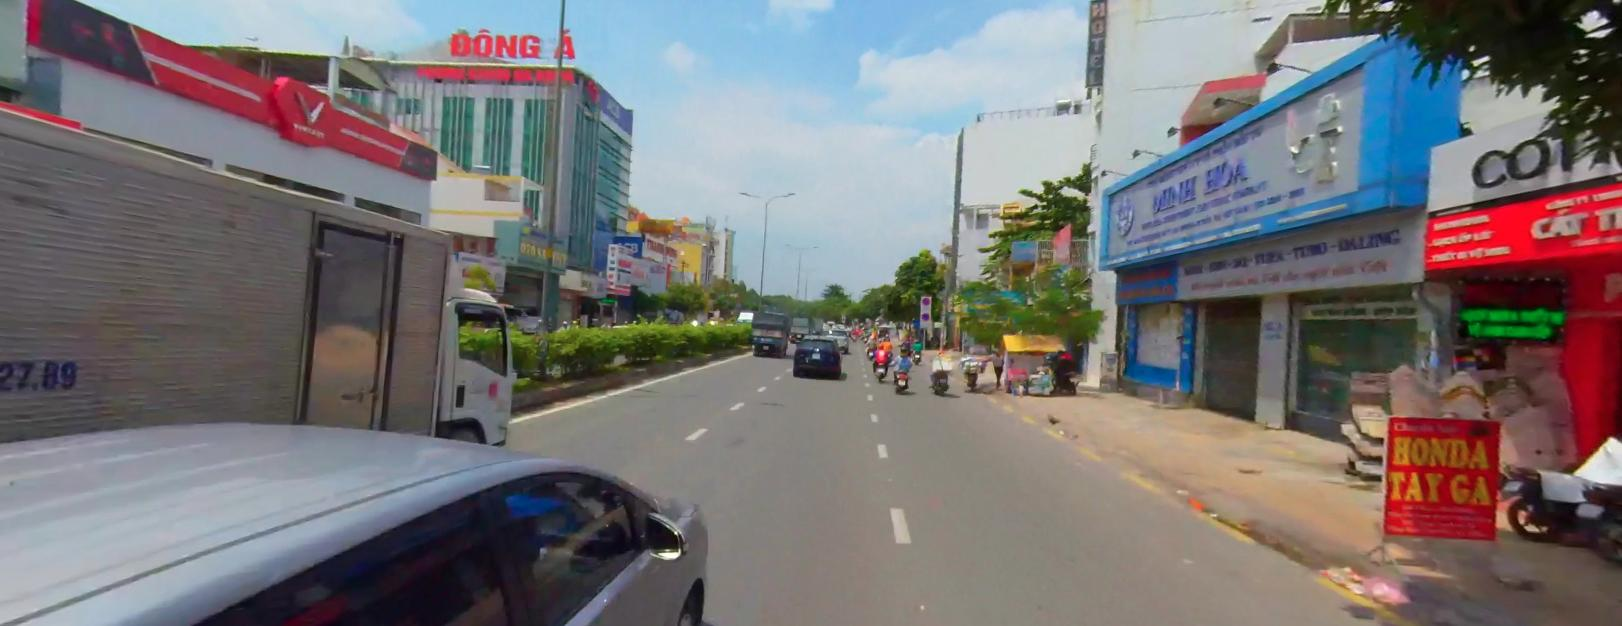Cam dung va do: (921, 311, 930, 319), (922, 296, 930, 304)
